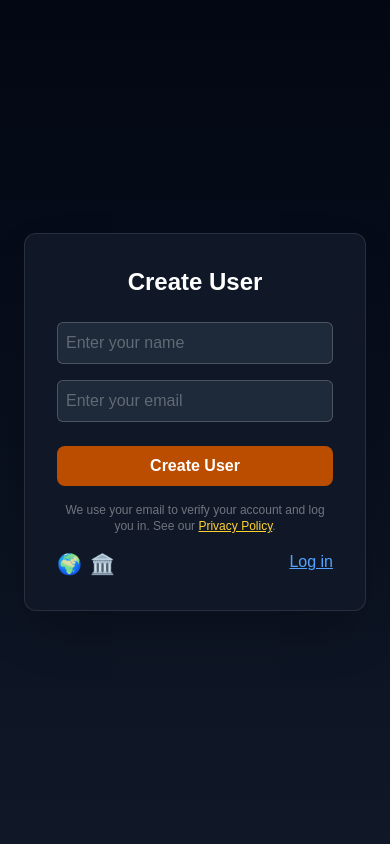
SignupPage › blocks submit with a validation message when a field is empty
Click the button "Create User": (195, 466) [57,446,333,486]
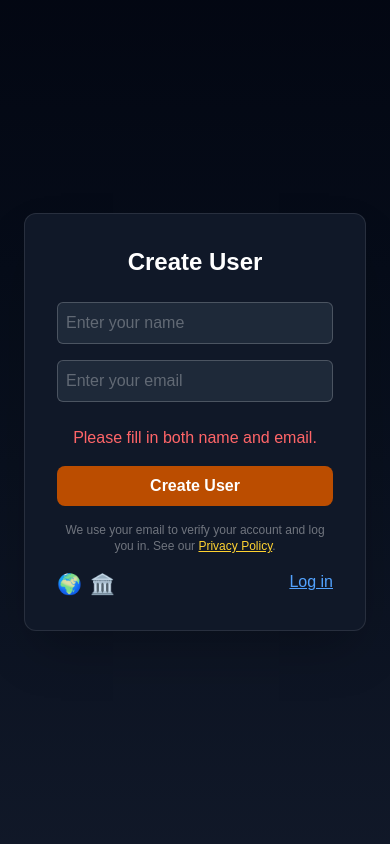
Now the text "Please fill in both name and email." is shown, box [57,426,333,450]
